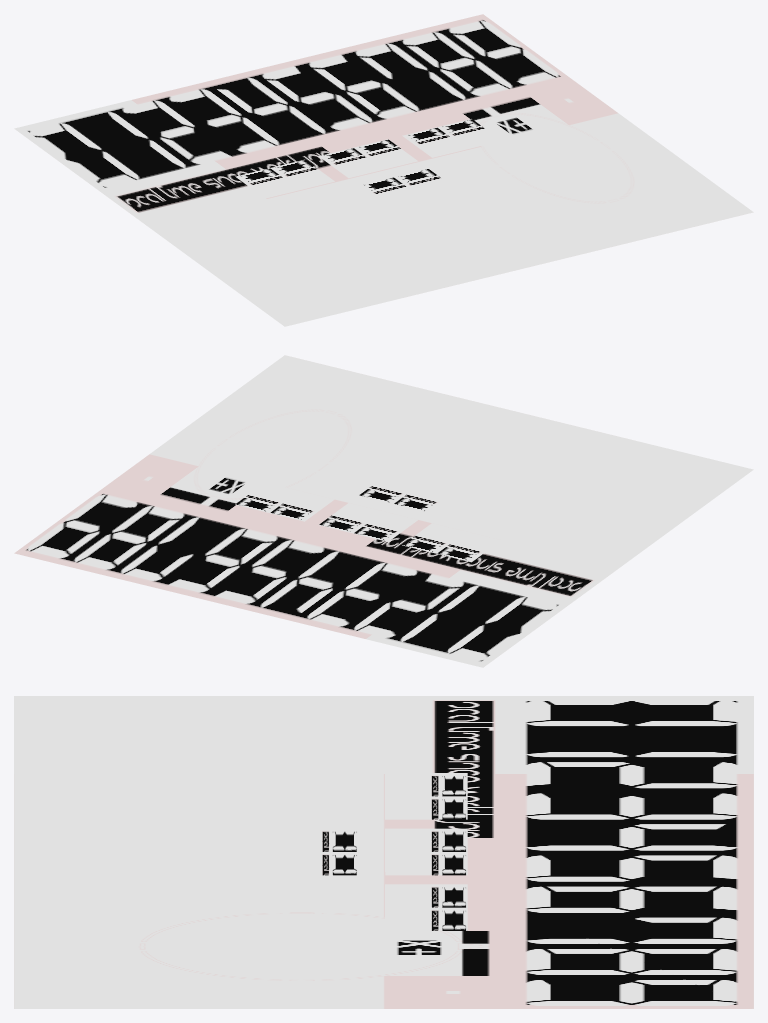
Rendered from Neitri's Clock V4 B.fbx.
The picture shows the model from 3 angles, top to bottom: view 1: azimuth 30°, elevation 25°; view 2: azimuth 150°, elevation 25°; view 3: azimuth 270°, elevation 25°; orthographic projection. The views are drawn at different scales.
Parts seen in each view (by area): view 1: clock; view 2: clock; view 3: clock.
Part boxes in pixels (bbox=[...]): clock: bbox=[14, 14, 753, 326]; clock: bbox=[14, 355, 753, 667]; clock: bbox=[14, 696, 753, 1008].
Bounding box in the file's own units: 10.36 × 0.0082 × 10.36.
